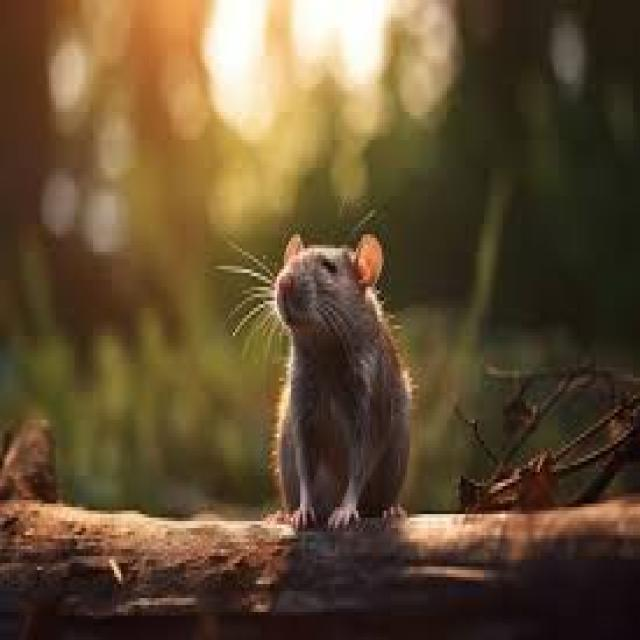Rat: (201, 169, 422, 569)
